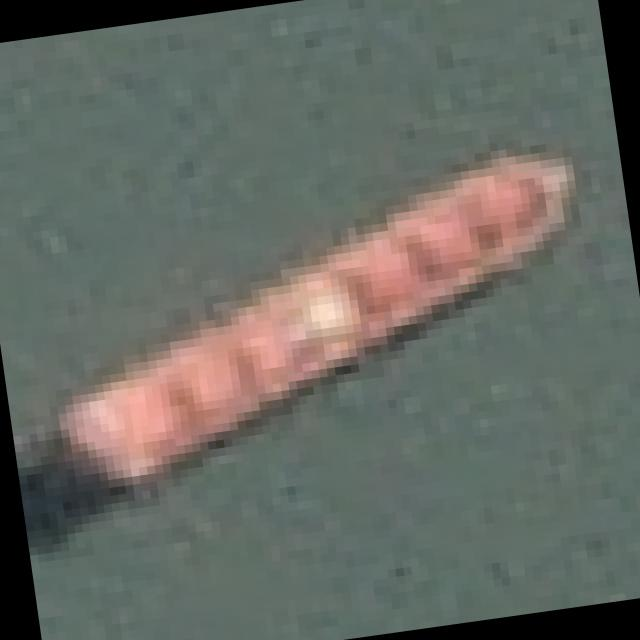ship: (0, 66, 627, 525)
